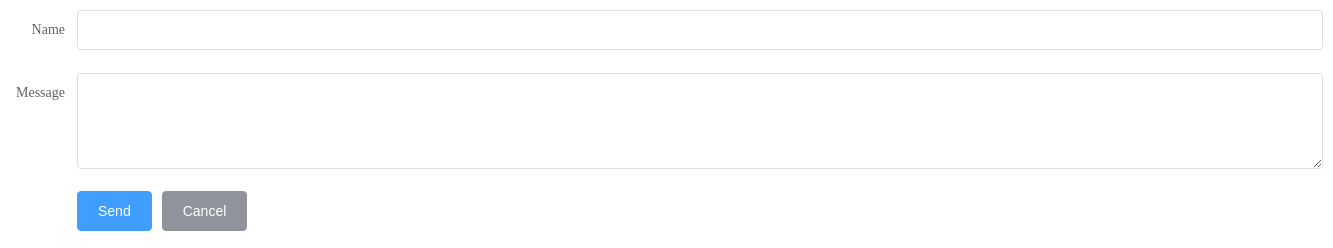
Test case: MessageForm.vue › Delete values on inputs after click cancel button
Type "Narfisa" into the field at (700, 30), box [77,10,1323,50]
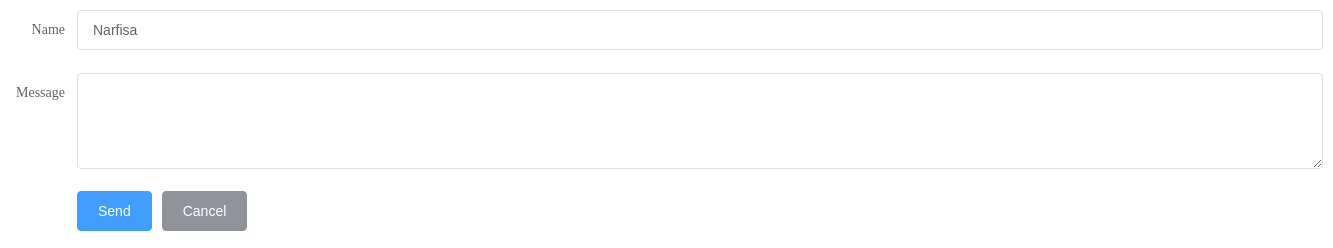
Type "new message" into the text box at (700, 121), box [77,73,1323,169]
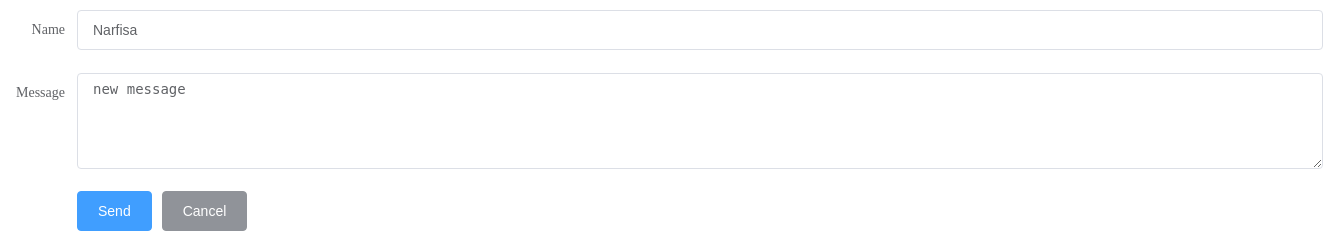
Click the button "Cancel" at (204, 211), box [162,191,247,231]
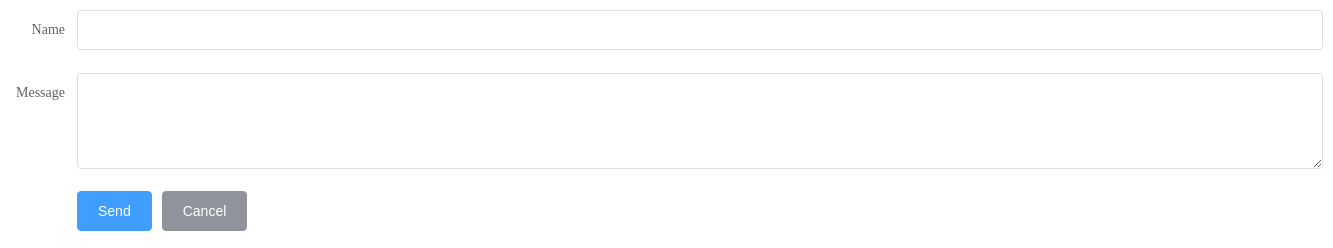
Now the field is empty, box [77,10,1323,50]
Now the text box is empty, box [77,73,1323,169]
